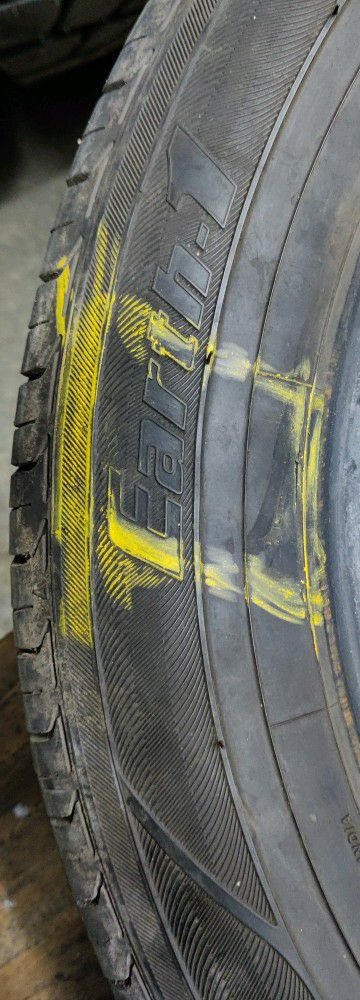CBU: (85, 339, 314, 588)
